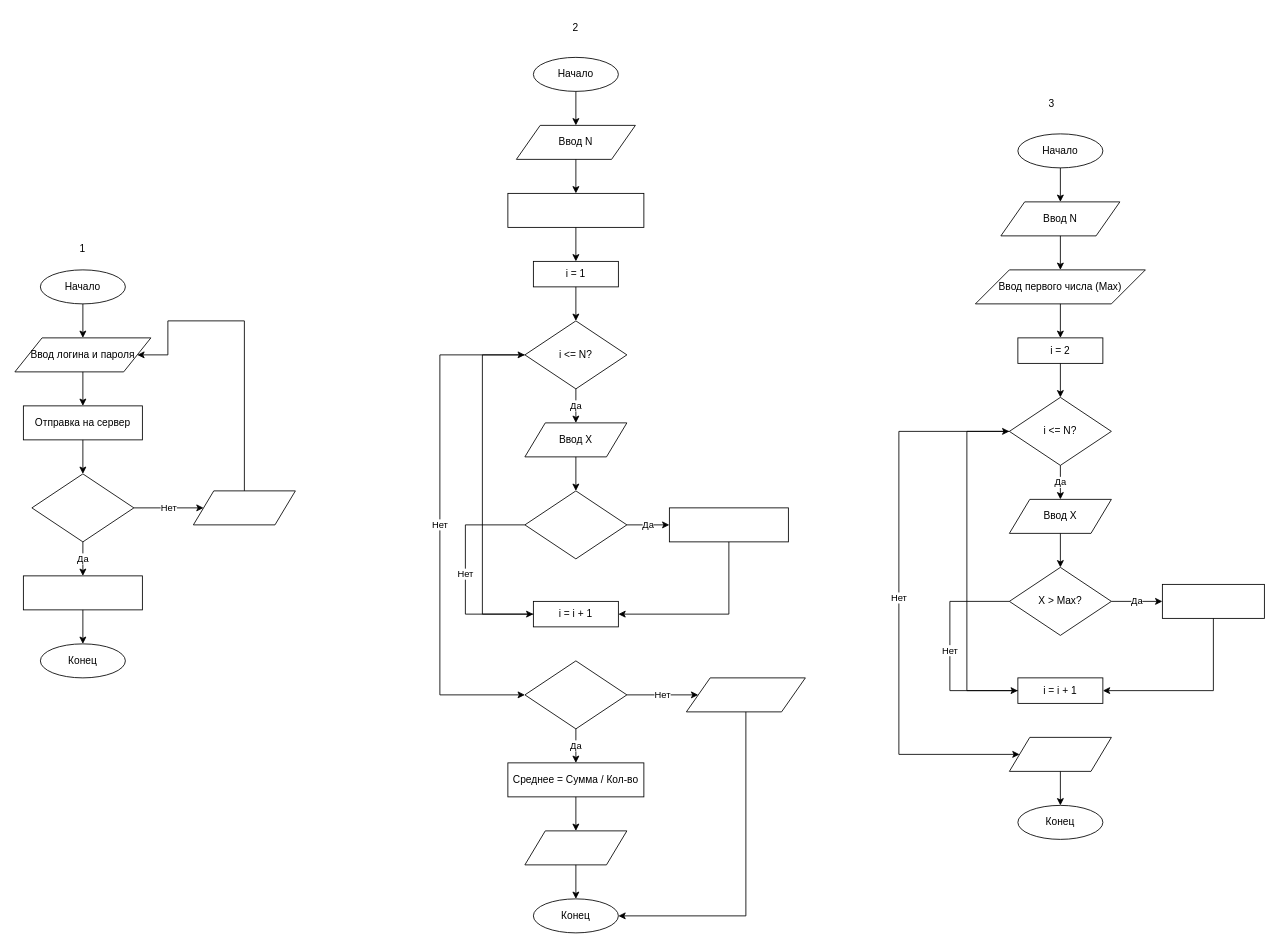
This 1279x948 diagram has some shape labels left out. The shapes that lost their labels are listed below. From the top down, each one's centre as x and y in pixels, then its label:
At point 575,210: "Сумма = 0; Кол-во = 0".
At point 82,507: "Данные верны?".
At point 244,507: "Вывод ошибки".
At point 575,524: "X > 0?".
At point 728,524: "Сумма += X; Кол-во += 1".
At point 82,592: "Личный кабинет".
At point 1213,601: "Max = X".
At point 575,694: "Кол-во > 0?".
At point 745,694: "Нет положительных".
At point 1060,754: "Вывод Max".
At point 575,847: "Вывод Среднее".
